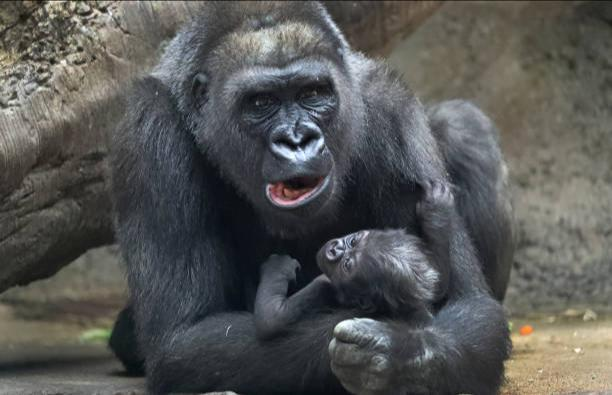gorille_Autres: (111, 0, 532, 395)
